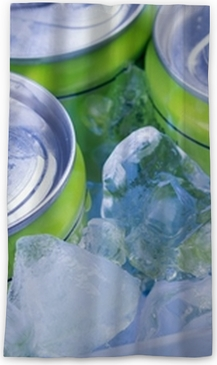can: (7, 67, 91, 287), (9, 3, 158, 95), (143, 7, 211, 175)
